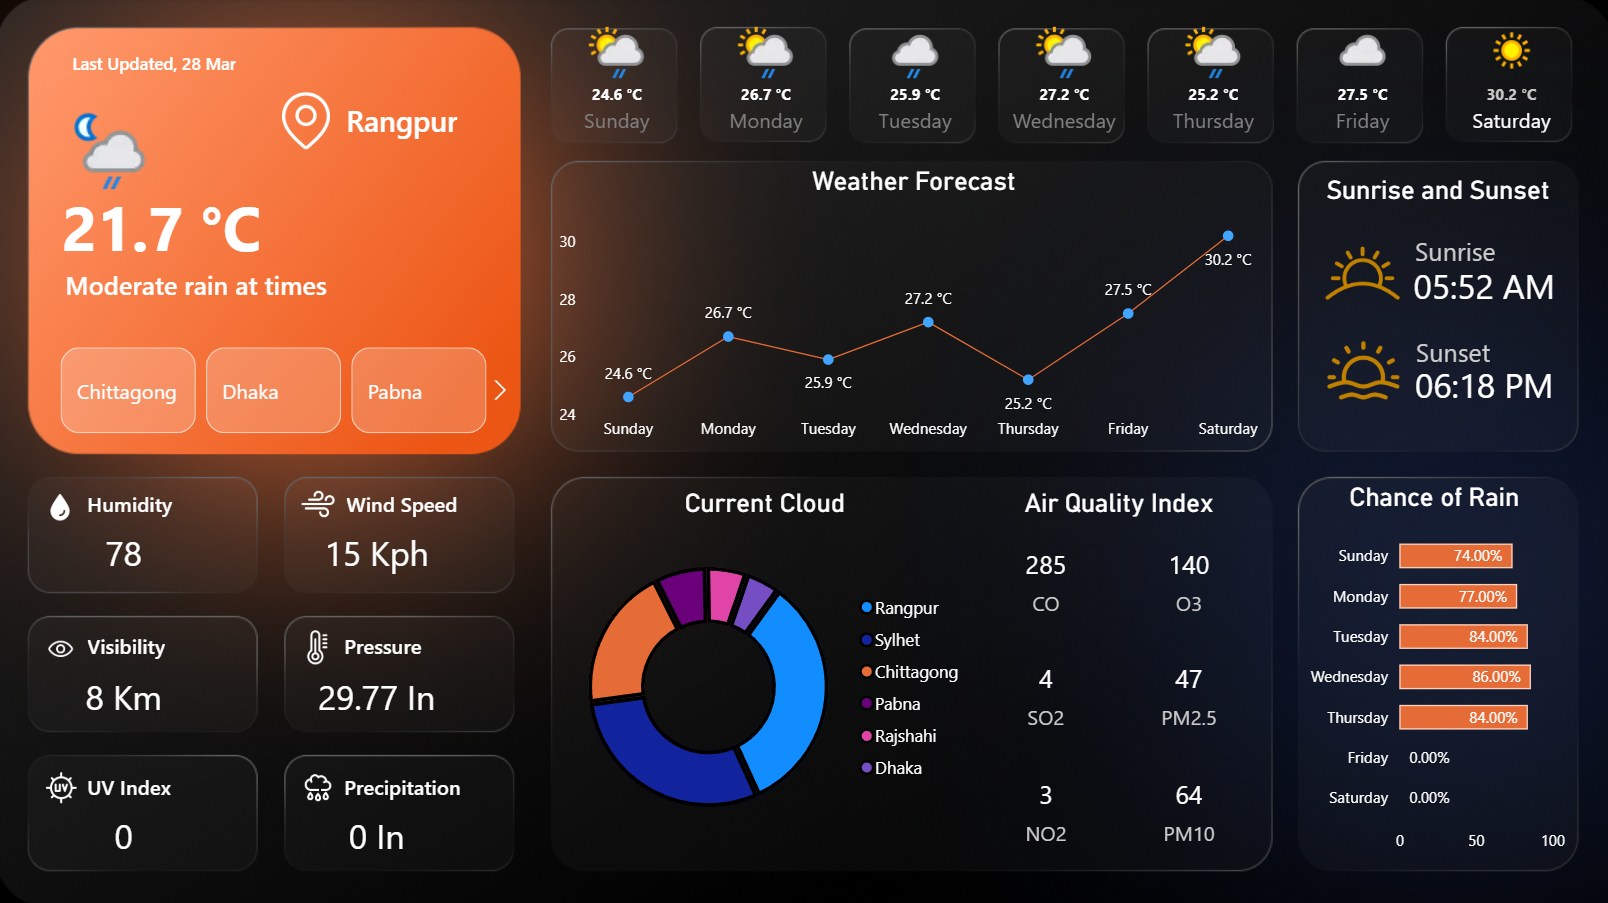

Layout of this report page (visuals, bound fields, positions):
{"tool":"powerbi","page":{"name":"Page 1","canvas":[1280,720],"ordinal":0},"visuals":[{"type":"advancedSlicerVisual","fields":{"Values":["Locations.location.name"]},"box":[26.1,271.7,388.3,78.2],"z":0},{"type":"shape","box":[45.3,140,171.5,81],"z":1000},{"type":"shape","box":[52.1,208.6,330.7,35.7],"z":2000},{"type":"shape","box":[273.1,68.6,130.4,56.3],"z":3000},{"type":"shape","box":[57.6,34.3,167.4,35.7],"z":4000},{"type":"image","box":[216.8,70,57.6,54.9],"z":5000},{"type":"cardVisual","fields":{"Data":["Min(Current.current.condition.icon)"]},"box":[22,70,119.4,101.5],"z":6000},{"type":"image","box":[31.6,498.1,38.4,32.9],"z":7000},{"type":"shape","box":[70,382.8,105.7,35.7],"z":8000},{"type":"shape","box":[274.4,382.8,105.7,35.7],"z":9000},{"type":"shape","box":[273.1,495.4,105.7,35.7],"z":10000},{"type":"shape","box":[70,495.4,105.7,35.7],"z":11000},{"type":"shape","box":[70,606.5,105.7,35.7],"z":12000},{"type":"shape","box":[273.1,606.5,105.7,35.7],"z":13000},{"type":"image","box":[31.6,387,38.4,31.6],"z":14000},{"type":"image","box":[236,606.5,38.4,35.7],"z":15000},{"type":"image","box":[31.6,606.5,39.8,35.7],"z":16000},{"type":"image","box":[236,495.4,37,37],"z":17000},{"type":"image","box":[236,381.5,38.4,38.4],"z":18000},{"type":"card","fields":{"Values":["Sum(Current.current.humidity)"]},"box":[26.1,418.5,149.6,42.5],"z":19000},{"type":"card","fields":{"Values":["_Measures.Wind_Speed"]},"box":[226.4,418.5,149.6,42.5],"z":20000},{"type":"card","fields":{"Values":["_Measures.Visibility"]},"box":[26.1,532.4,149.6,42.5],"z":21000},{"type":"card","fields":{"Values":["_Measures.Pressure"]},"box":[226.4,532.4,149.6,42.5],"z":22000},{"type":"card","fields":{"Values":["Sum(Current.current.uv)"]},"box":[26.1,642.2,149.6,42.5],"z":23000},{"type":"card","fields":{"Values":["_Measures.Precipitation"]},"box":[226.4,642.2,149.6,42.5],"z":24000},{"type":"advancedSlicerVisual","fields":{"Values":["Forecast_Day.Day_Name"]},"box":[430.9,9.6,834.3,115.3],"z":25000},{"type":"lineChart","title":"Weather Forecast","fields":{"Y":["Sum(Forecast_Day.forecast.forecastday.day.avgtemp_c)"],"Category":["Forecast_Day.Day_Name"]},"box":[440.5,133.1,570.8,226.4],"z":26000},{"type":"shape","box":[1036,132.6,210.5,36],"z":27000},{"type":"shape","box":[1111.5,200.2,131.7,53.5],"z":28000},{"type":"shape","box":[1111.5,278.9,131.7,52.1],"z":29000},{"type":"shape","box":[1118.6,173.3,103.5,53.5],"z":30000},{"type":"shape","box":[1119.8,253.5,91.9,52.3],"z":31000},{"type":"image","box":[1037.4,171.5,87.8,91.9],"z":32000},{"type":"image","box":[1044.3,260.7,74.1,67.2],"z":33000},{"type":"clusteredBarChart","title":"Chance of Rain","fields":{"Category":["Forecast_Day.Day_Name"],"Y":["Avg(Forecast_Day.forecast.forecastday.day.daily_chance_of_rain)"]},"box":[1029.1,382.6,217.4,302.3],"z":34000},{"type":"shape","box":[778.6,381.2,219.8,34.8],"z":35000},{"type":"card","fields":{"Values":["Sum(Current.current.air_quality.pm10)"]},"box":[889.3,604.7,109.3,75.7],"z":36000},{"type":"card","fields":{"Values":["Sum(Current.current.air_quality.pm2_5)"]},"box":[889.3,512.8,109.3,75.7],"z":37000},{"type":"card","fields":{"Values":["Sum(Current.current.air_quality.o3)"]},"box":[889.3,422.2,109.3,75.7],"z":38000},{"type":"card","fields":{"Values":["Sum(Current.current.air_quality.co)"]},"box":[776.3,422.2,109.3,75.7],"z":39000},{"type":"card","fields":{"Values":["Sum(Current.current.air_quality.no2)"]},"box":[776.3,604.7,109.3,75.7],"z":40000},{"type":"card","fields":{"Values":["Sum(Current.current.air_quality.so2)"]},"box":[776.3,512.8,109.3,75.7],"z":41000},{"type":"donutChart","title":"Current Cloud","fields":{"Category":["Locations.location.name"],"Y":["Sum(Current.current.cloud)"]},"box":[439.6,387.4,336.5,296.8],"z":42000}]}

Visuals, with their boxes in screenshot pixels (x1, y1, x2, y2), scaled from the page's 1280x720 canvas onto the 1608x903 screenshot:
advancedSlicerVisual - Locations.location.name: (x1=33, y1=341, x2=521, y2=439)
shape: (x1=57, y1=176, x2=272, y2=277)
shape: (x1=65, y1=262, x2=481, y2=306)
shape: (x1=343, y1=86, x2=507, y2=157)
shape: (x1=72, y1=43, x2=283, y2=88)
image: (x1=272, y1=88, x2=345, y2=157)
cardVisual - Min(Current.current.condition.icon): (x1=28, y1=88, x2=178, y2=215)
image: (x1=40, y1=625, x2=88, y2=666)
shape: (x1=88, y1=480, x2=221, y2=525)
shape: (x1=345, y1=480, x2=478, y2=525)
shape: (x1=343, y1=621, x2=476, y2=666)
shape: (x1=88, y1=621, x2=221, y2=666)
shape: (x1=88, y1=761, x2=221, y2=805)
shape: (x1=343, y1=761, x2=476, y2=805)
image: (x1=40, y1=485, x2=88, y2=525)
image: (x1=296, y1=761, x2=345, y2=805)
image: (x1=40, y1=761, x2=90, y2=805)
image: (x1=296, y1=621, x2=343, y2=668)
image: (x1=296, y1=478, x2=345, y2=527)
card - Sum(Current.current.humidity): (x1=33, y1=525, x2=221, y2=578)
card - _Measures.Wind_Speed: (x1=284, y1=525, x2=472, y2=578)
card - _Measures.Visibility: (x1=33, y1=668, x2=221, y2=721)
card - _Measures.Pressure: (x1=284, y1=668, x2=472, y2=721)
card - Sum(Current.current.uv): (x1=33, y1=805, x2=221, y2=859)
card - _Measures.Precipitation: (x1=284, y1=805, x2=472, y2=859)
advancedSlicerVisual - Forecast_Day.Day_Name: (x1=541, y1=12, x2=1589, y2=157)
"Weather Forecast" lineChart: (x1=553, y1=167, x2=1270, y2=451)
shape: (x1=1301, y1=166, x2=1566, y2=211)
shape: (x1=1396, y1=251, x2=1562, y2=318)
shape: (x1=1396, y1=350, x2=1562, y2=415)
shape: (x1=1405, y1=217, x2=1535, y2=284)
shape: (x1=1407, y1=318, x2=1522, y2=384)
image: (x1=1303, y1=215, x2=1414, y2=330)
image: (x1=1312, y1=327, x2=1405, y2=411)
"Chance of Rain" clusteredBarChart: (x1=1293, y1=480, x2=1566, y2=859)
shape: (x1=978, y1=478, x2=1254, y2=522)
card - Sum(Current.current.air_quality.pm10): (x1=1117, y1=758, x2=1254, y2=853)
card - Sum(Current.current.air_quality.pm2_5): (x1=1117, y1=643, x2=1254, y2=738)
card - Sum(Current.current.air_quality.o3): (x1=1117, y1=530, x2=1254, y2=624)
card - Sum(Current.current.air_quality.co): (x1=975, y1=530, x2=1113, y2=624)
card - Sum(Current.current.air_quality.no2): (x1=975, y1=758, x2=1113, y2=853)
card - Sum(Current.current.air_quality.so2): (x1=975, y1=643, x2=1113, y2=738)
"Current Cloud" donutChart: (x1=552, y1=486, x2=975, y2=858)
